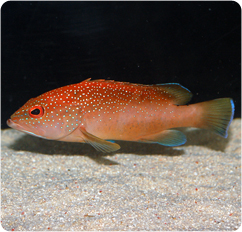Cephalopholis_fulvaw: (3, 70, 239, 166)
